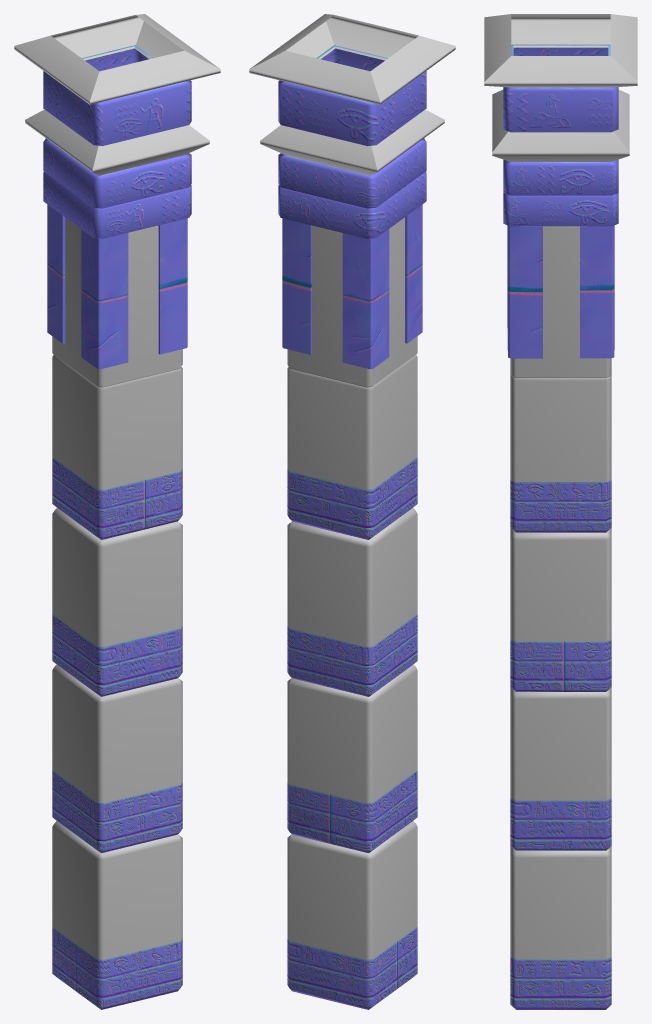
File: Pillar.fbx
3 renders of one model, left to right at view 1: azimuth 30°, elevation 25°; view 2: azimuth 150°, elevation 25°; view 3: azimuth 270°, elevation 25°, orthographic.
Parts seen in each view (by area): view 1: Pillar; view 2: Pillar; view 3: Pillar.
Part boxes in pixels (x1=…): Pillar: x1=14, y1=14, x2=220, y2=1009; Pillar: x1=249, y1=14, x2=455, y2=1009; Pillar: x1=484, y1=14, x2=637, y2=1009.
Size of the model in its own units: 152 by 1042 by 152.
